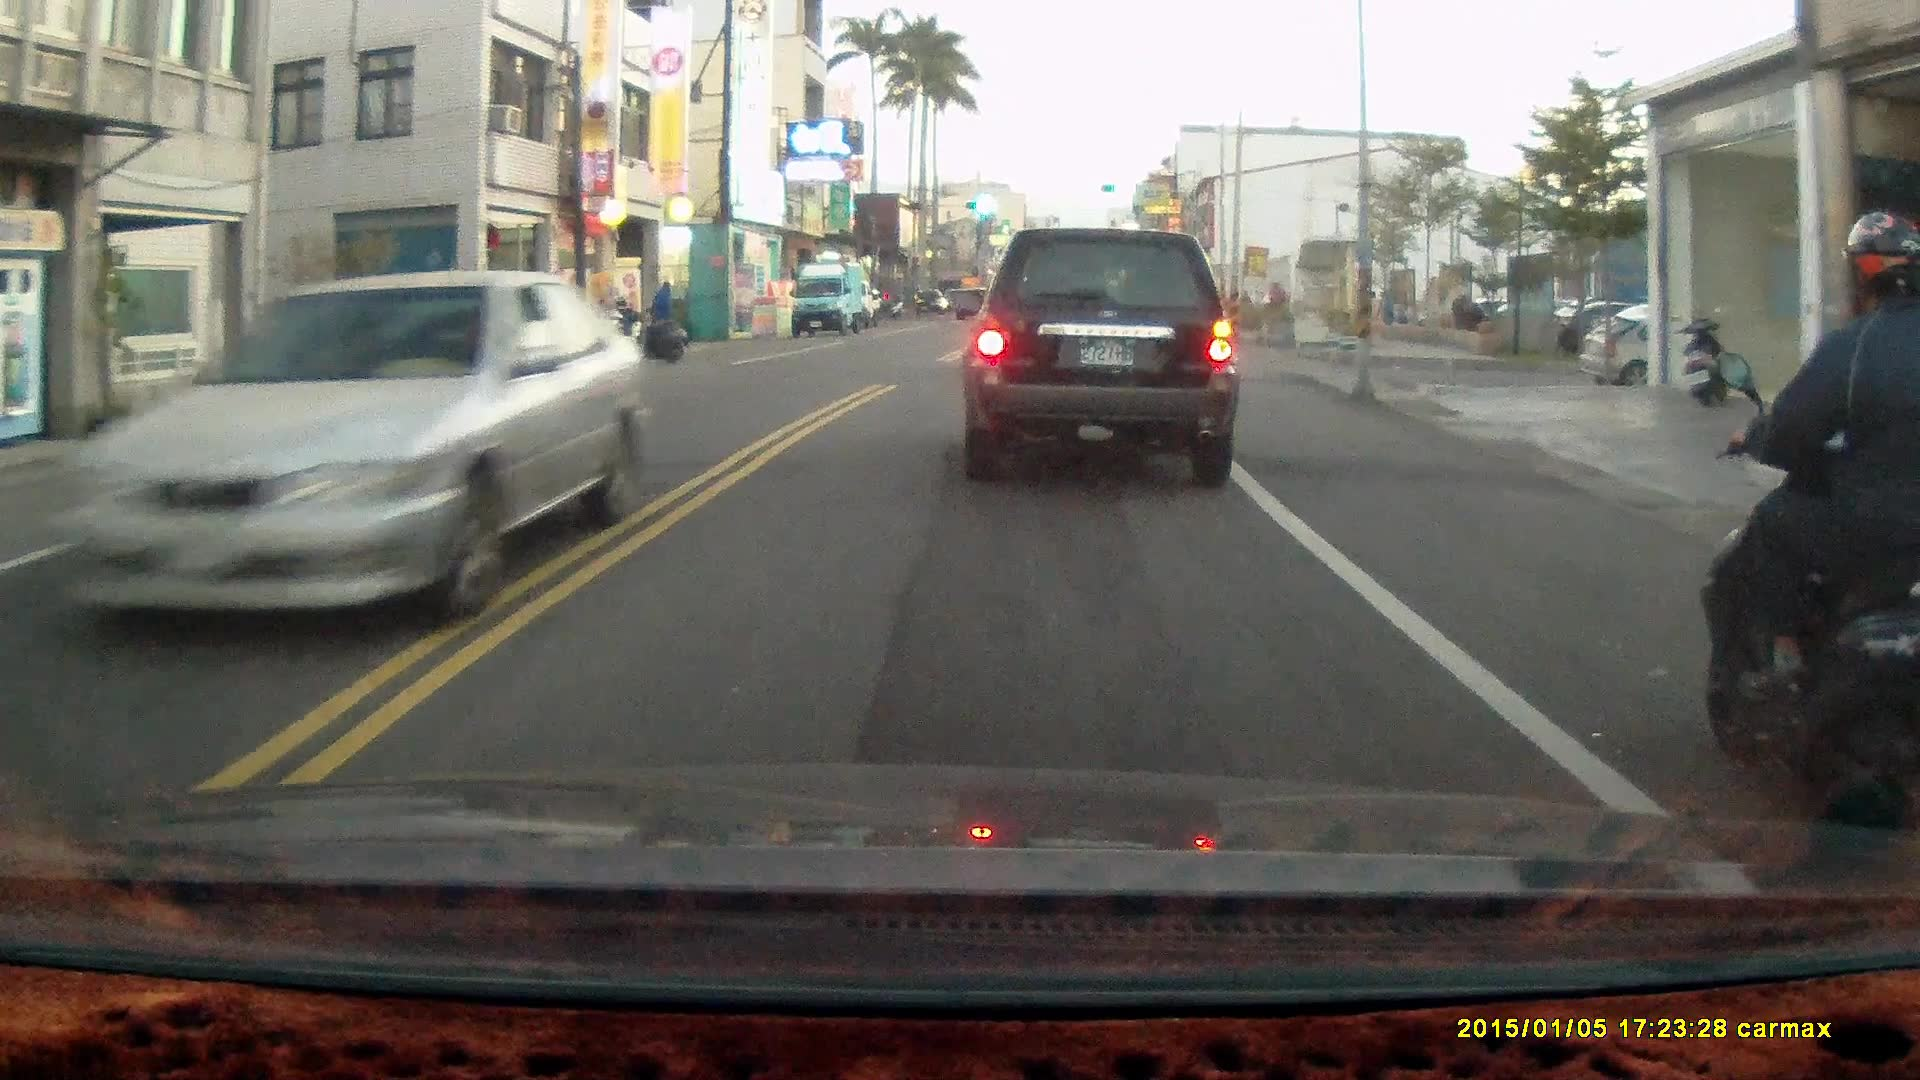pedestrian: (647, 276, 678, 350)
rider: (1694, 211, 1920, 853)
vehicle: (46, 269, 651, 639), (968, 226, 1245, 493), (1578, 318, 1790, 399), (791, 265, 872, 343)
